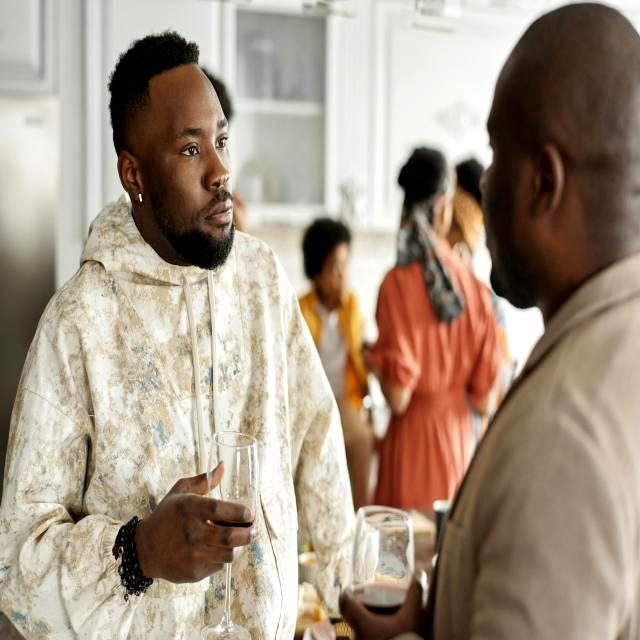no_head_wear: (488, 3, 640, 175), (108, 30, 199, 150), (398, 147, 449, 213), (302, 218, 351, 279)
person: (0, 31, 355, 640), (423, 4, 640, 639), (373, 147, 500, 507), (299, 218, 368, 395)
